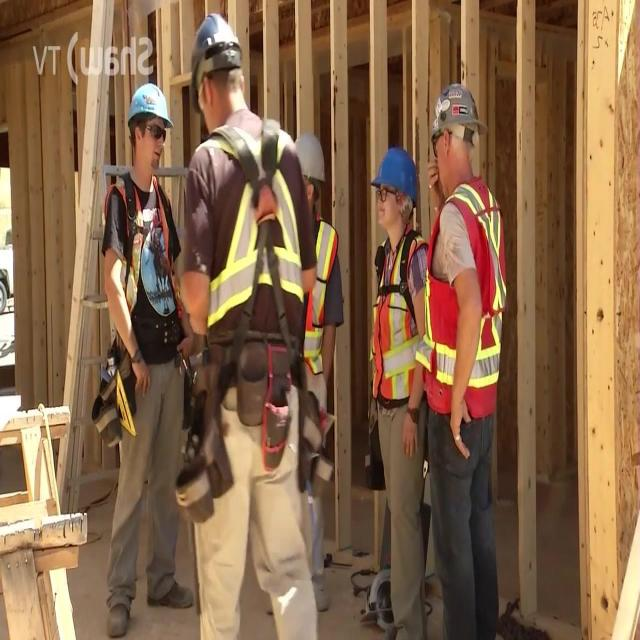Reflective-Jacket: (178, 114, 308, 412), (414, 177, 518, 443), (94, 168, 188, 373), (366, 225, 434, 420), (294, 212, 344, 408)
Safety-Helmet: (184, 5, 248, 94), (424, 77, 488, 151), (367, 136, 421, 212), (120, 74, 176, 140), (287, 121, 333, 201)
